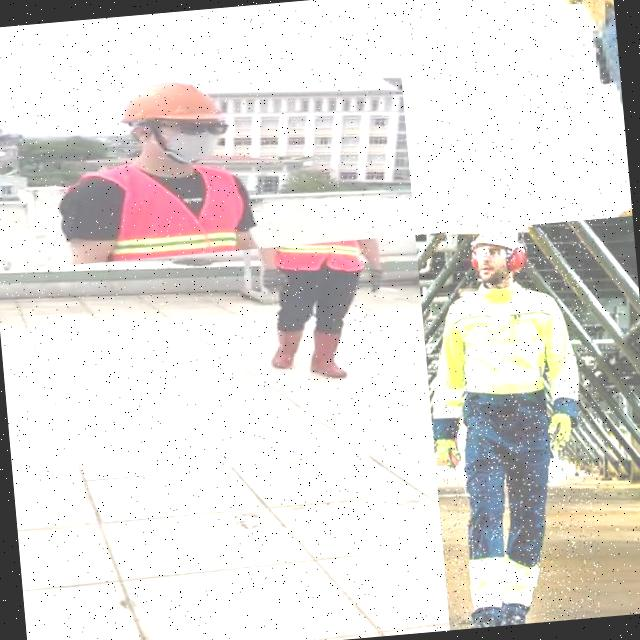boots: (303, 325, 353, 382), (266, 324, 306, 372), (496, 605, 530, 626), (466, 606, 498, 628)
helmet: (114, 72, 228, 134), (471, 224, 527, 256)
vest: (429, 271, 562, 414), (94, 151, 253, 262), (272, 238, 370, 276)
